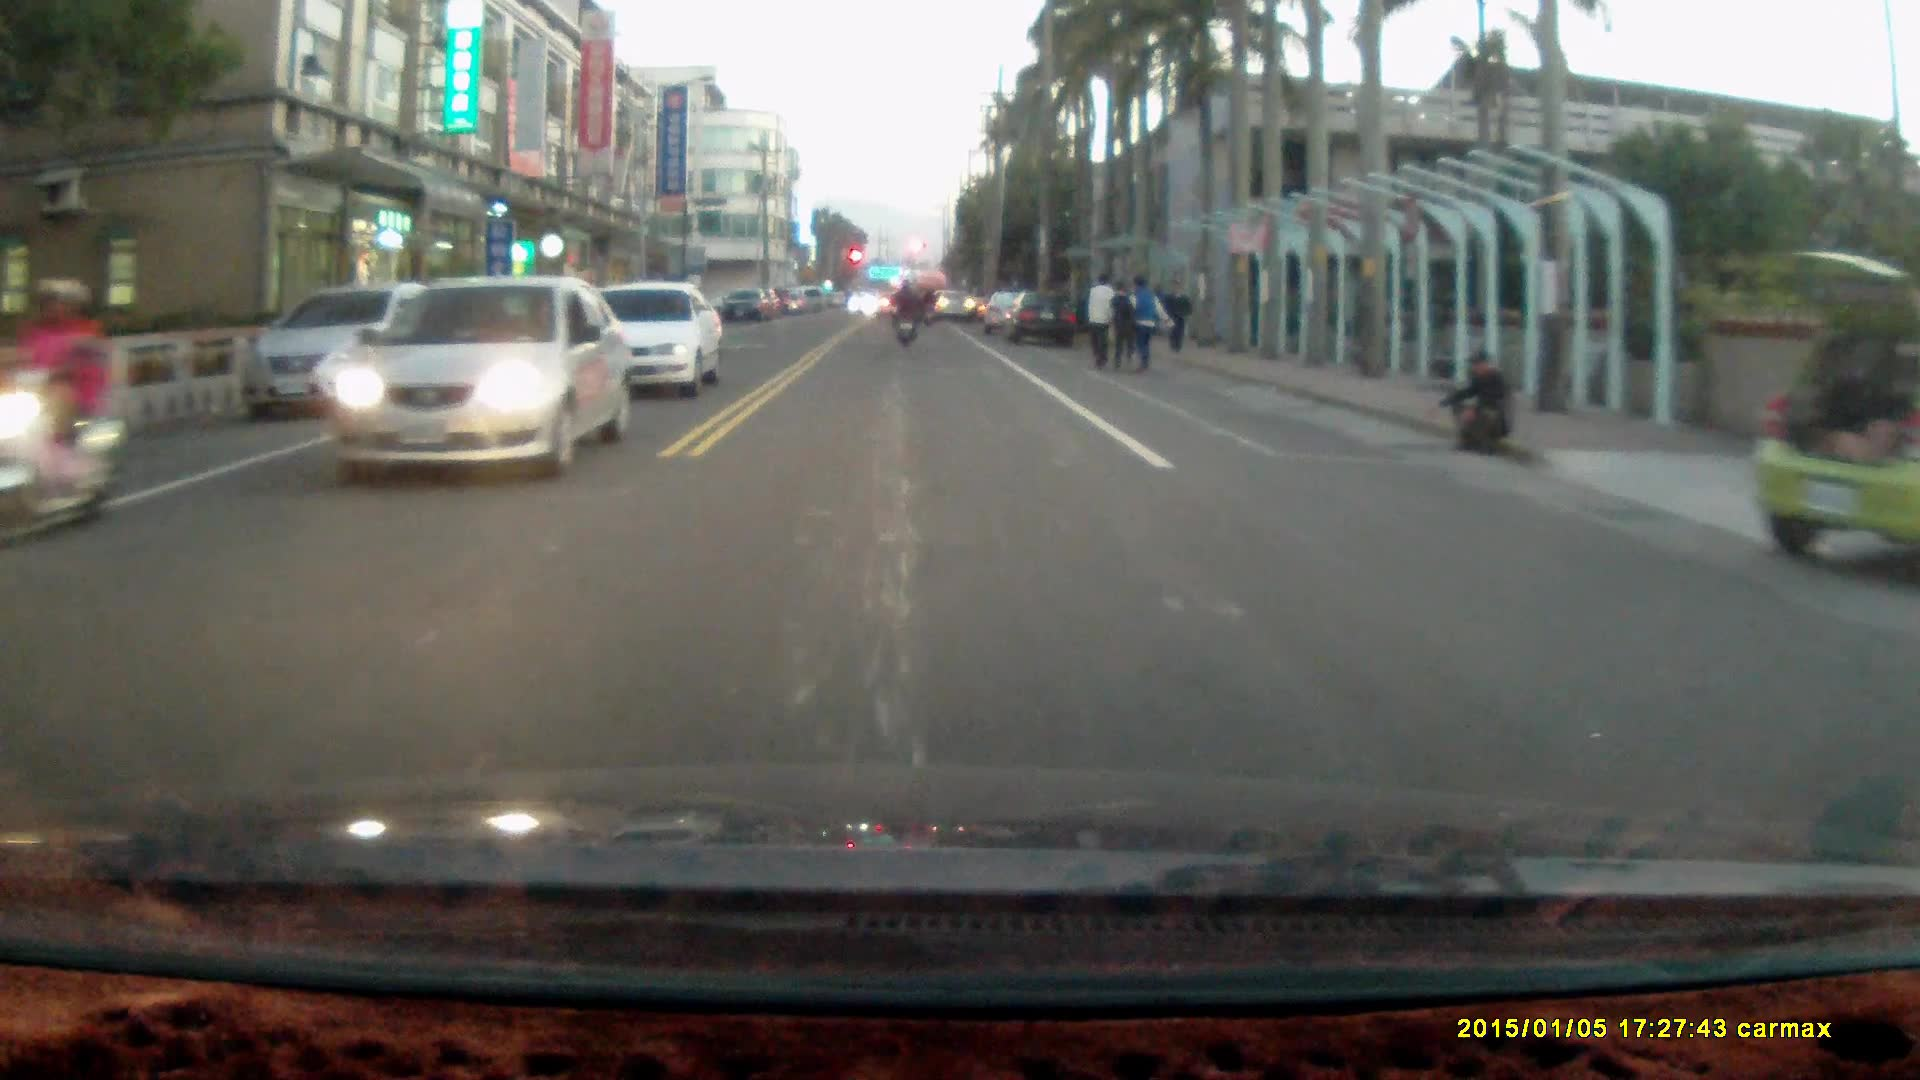pedestrian: (1440, 353, 1516, 458), (1116, 277, 1167, 380), (1085, 273, 1118, 373), (1104, 280, 1134, 370), (1158, 277, 1191, 355)
rider: (1, 276, 123, 548), (886, 277, 919, 352)
vehicle: (326, 277, 632, 485), (1752, 250, 1920, 568), (244, 288, 439, 425), (593, 282, 727, 403), (1000, 292, 1081, 347)
